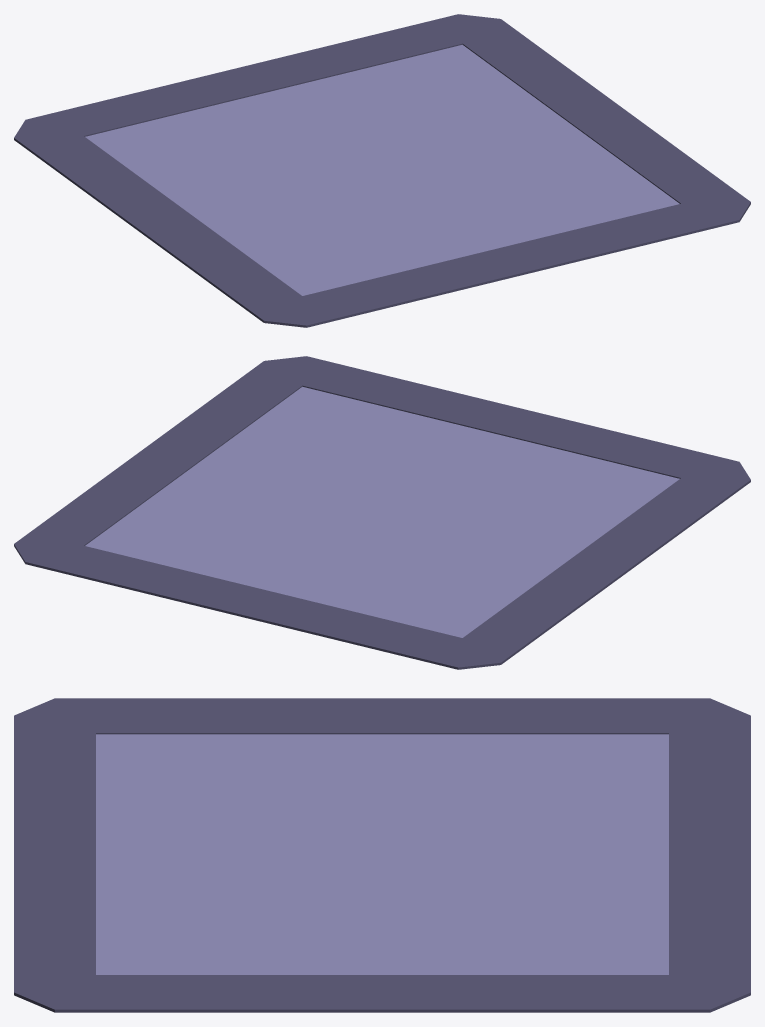
Rendered from BackgroundRoof.fbx.
The picture shows the model from 3 angles, top to bottom: view 1: azimuth 30°, elevation 25°; view 2: azimuth 150°, elevation 25°; view 3: azimuth 270°, elevation 25°; orthographic projection. The views are drawn at different scales.
Visible parts, largest first — view 1: mergedBlocks; view 2: mergedBlocks; view 3: mergedBlocks.
Boxes of the visible parts, bbox=[...] form: mergedBlocks: bbox=[14, 14, 750, 327]; mergedBlocks: bbox=[14, 356, 750, 669]; mergedBlocks: bbox=[14, 698, 750, 1012].
Size of the model in its own units: 450 by 2 by 450.
